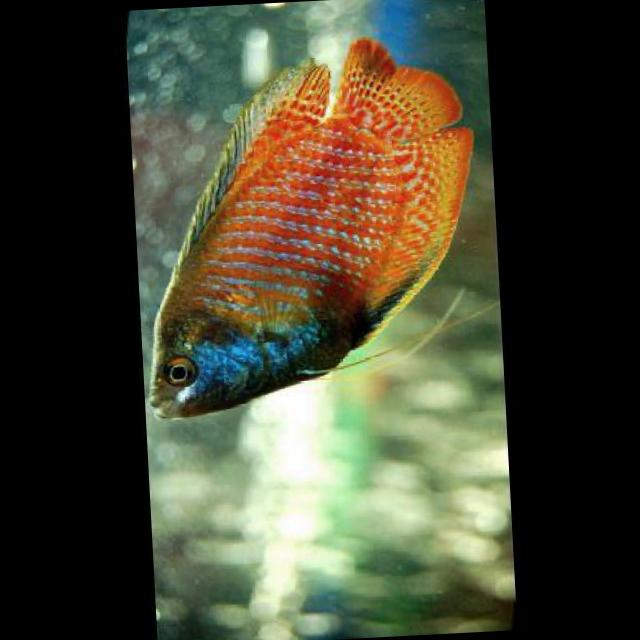Gourami: (124, 34, 483, 422)
